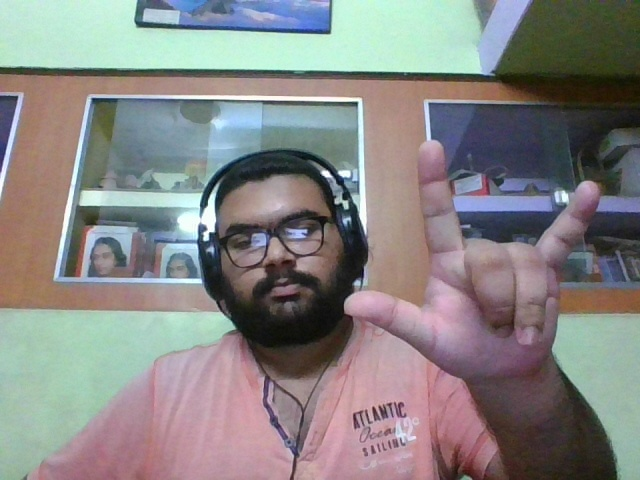hello: (343, 139, 602, 374)
